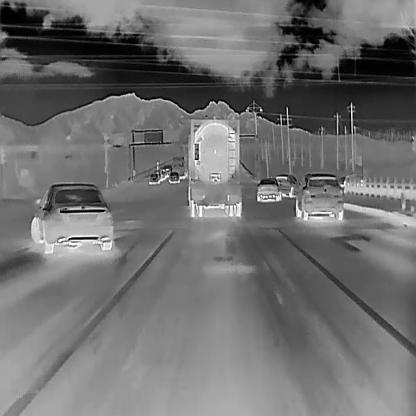car: (29, 181, 113, 254), (186, 116, 242, 218), (295, 172, 344, 220), (256, 176, 282, 201), (274, 173, 299, 198), (171, 155, 187, 178), (168, 171, 179, 183), (148, 173, 159, 185), (163, 164, 172, 176), (159, 166, 168, 178), (154, 169, 163, 180)
